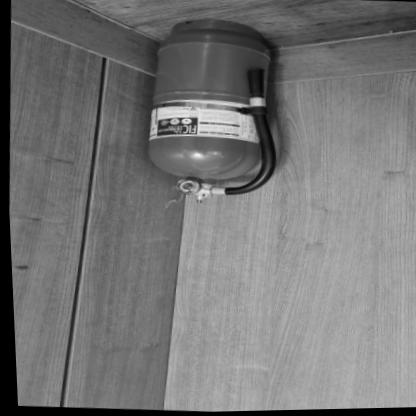FE: (143, 15, 282, 202)
